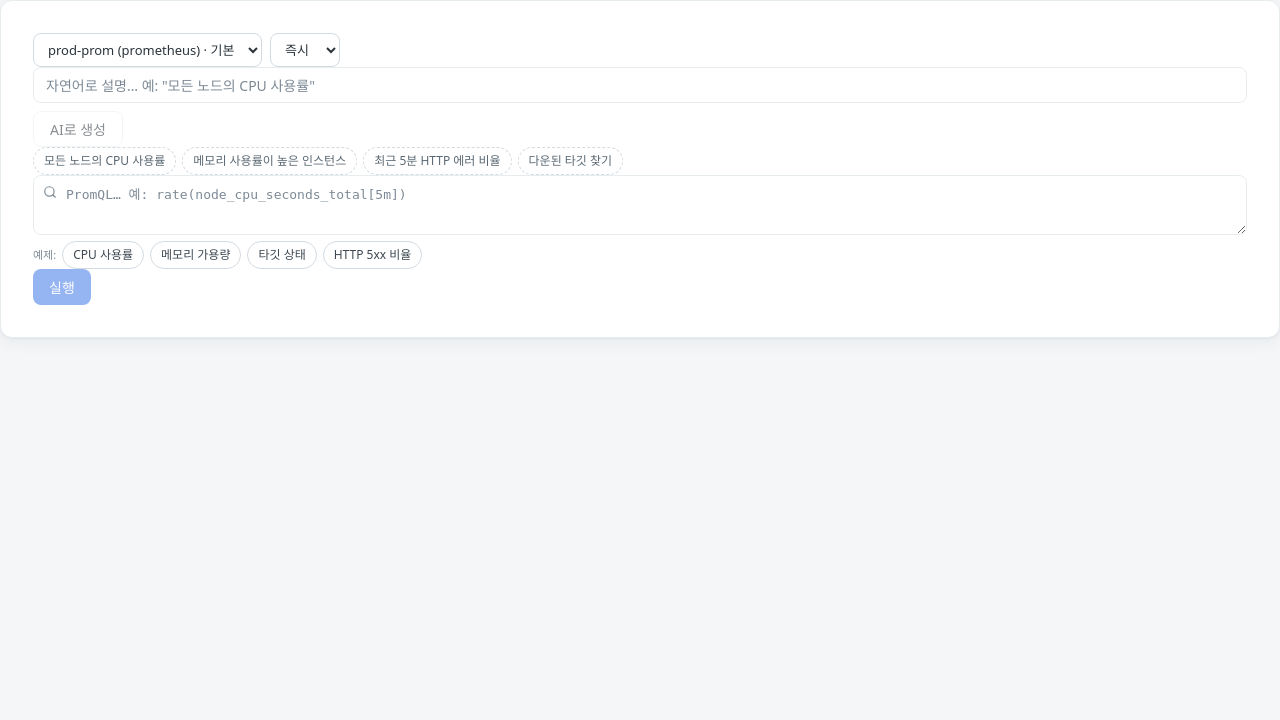
ExplorePanel › instant prometheus result (≤30 numeric rows) renders the ranked bar (상위 결과)
Step 1. Type "topk(3, up)" into the text box with placeholder "PromQL… 예: rate(node_cpu_seconds_total[5m])" → (640, 205), box x1=33 y1=175 x2=1247 y2=235
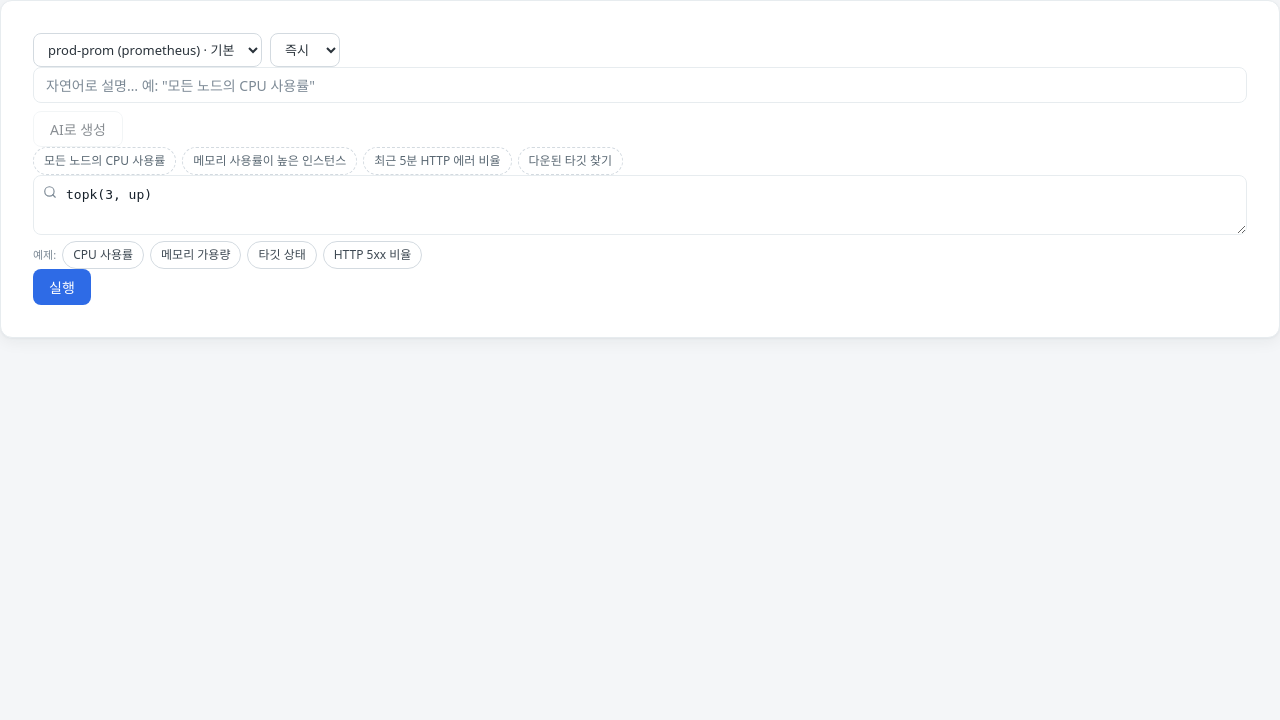
Step 2. Click the button "실행" → click(62, 287), box x1=33 y1=269 x2=91 y2=305
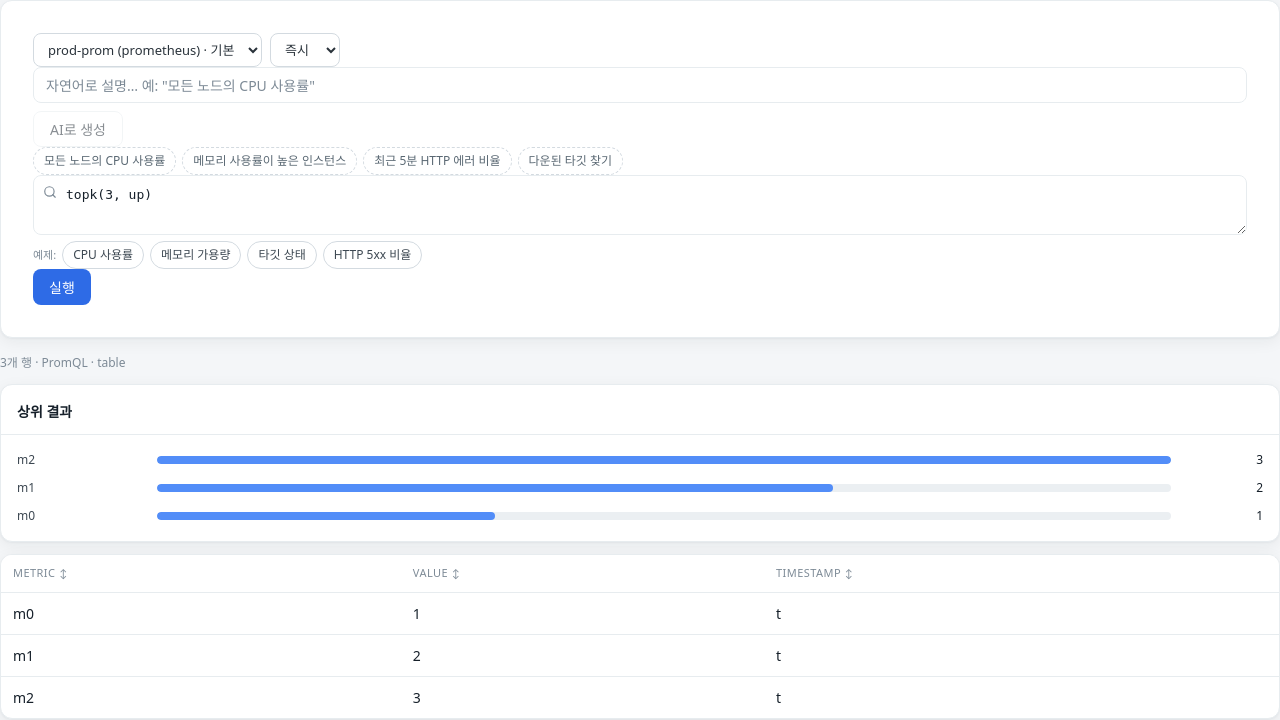
Check: the text "상위 결과" is shown, box x1=17 y1=401 x2=72 y2=422
